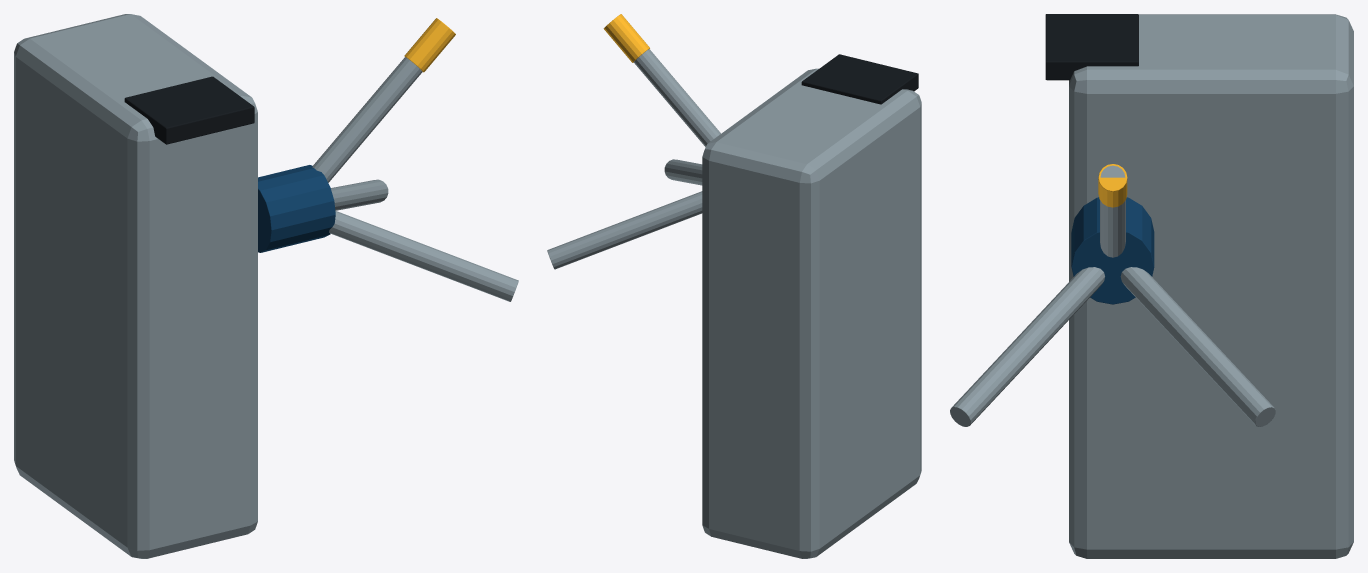
3 views of the same model, side by side, from view 1: azimuth 30°, elevation 25°; view 2: azimuth 150°, elevation 25°; view 3: azimuth 270°, elevation 25° (orthographic). The views are drawn at different scales.
Visible parts, largest first — view 1: CABINET, TRIPOD_Hub, READER, TRIPOD_Arm.002, TRIPOD_Arm, TRIPOD_GripMarker, TRIPOD_Arm.001; view 2: CABINET, READER, TRIPOD_Arm.001, TRIPOD_Arm, TRIPOD_GripMarker, TRIPOD_Arm.002; view 3: CABINET, TRIPOD_Arm.001, TRIPOD_Arm.002, READER, TRIPOD_Hub, TRIPOD_Arm, TRIPOD_GripMarker.
Part boxes in pixels (box(x1,y1,x2,y2)): CABINET: box(14, 14, 257, 558); TRIPOD_Hub: box(258, 165, 335, 252); READER: box(124, 76, 254, 144); TRIPOD_Arm.002: box(329, 210, 518, 301); TRIPOD_Arm: box(312, 57, 422, 182); TRIPOD_GripMarker: box(404, 18, 455, 72); TRIPOD_Arm.001: box(330, 179, 388, 210); CABINET: box(702, 68, 921, 558); READER: box(801, 54, 918, 104); TRIPOD_Arm.001: box(547, 191, 702, 269); TRIPOD_Arm: box(633, 49, 720, 146); TRIPOD_GripMarker: box(603, 14, 649, 62); TRIPOD_Arm.002: box(664, 159, 702, 185); CABINET: box(1069, 14, 1353, 558); TRIPOD_Arm.001: box(1120, 267, 1275, 426); TRIPOD_Arm.002: box(950, 267, 1104, 426); READER: box(1045, 14, 1138, 80); TRIPOD_Hub: box(1071, 197, 1154, 304); TRIPOD_Arm: box(1100, 165, 1125, 257); TRIPOD_GripMarker: box(1098, 164, 1127, 207).
Bounding box in the file's own units: 0.8383 × 1.08 × 0.7792.
